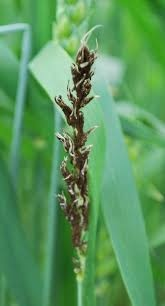Wheat Loose Smut: (52, 35, 107, 258)
